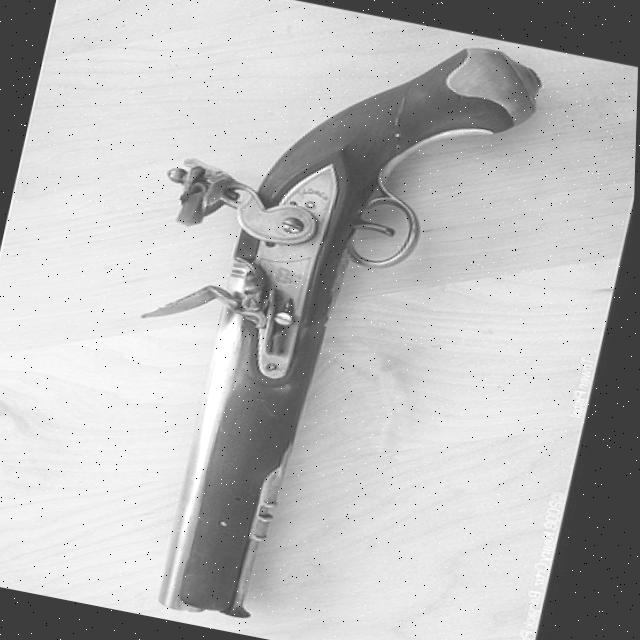pistol: (73, 0, 552, 640)
